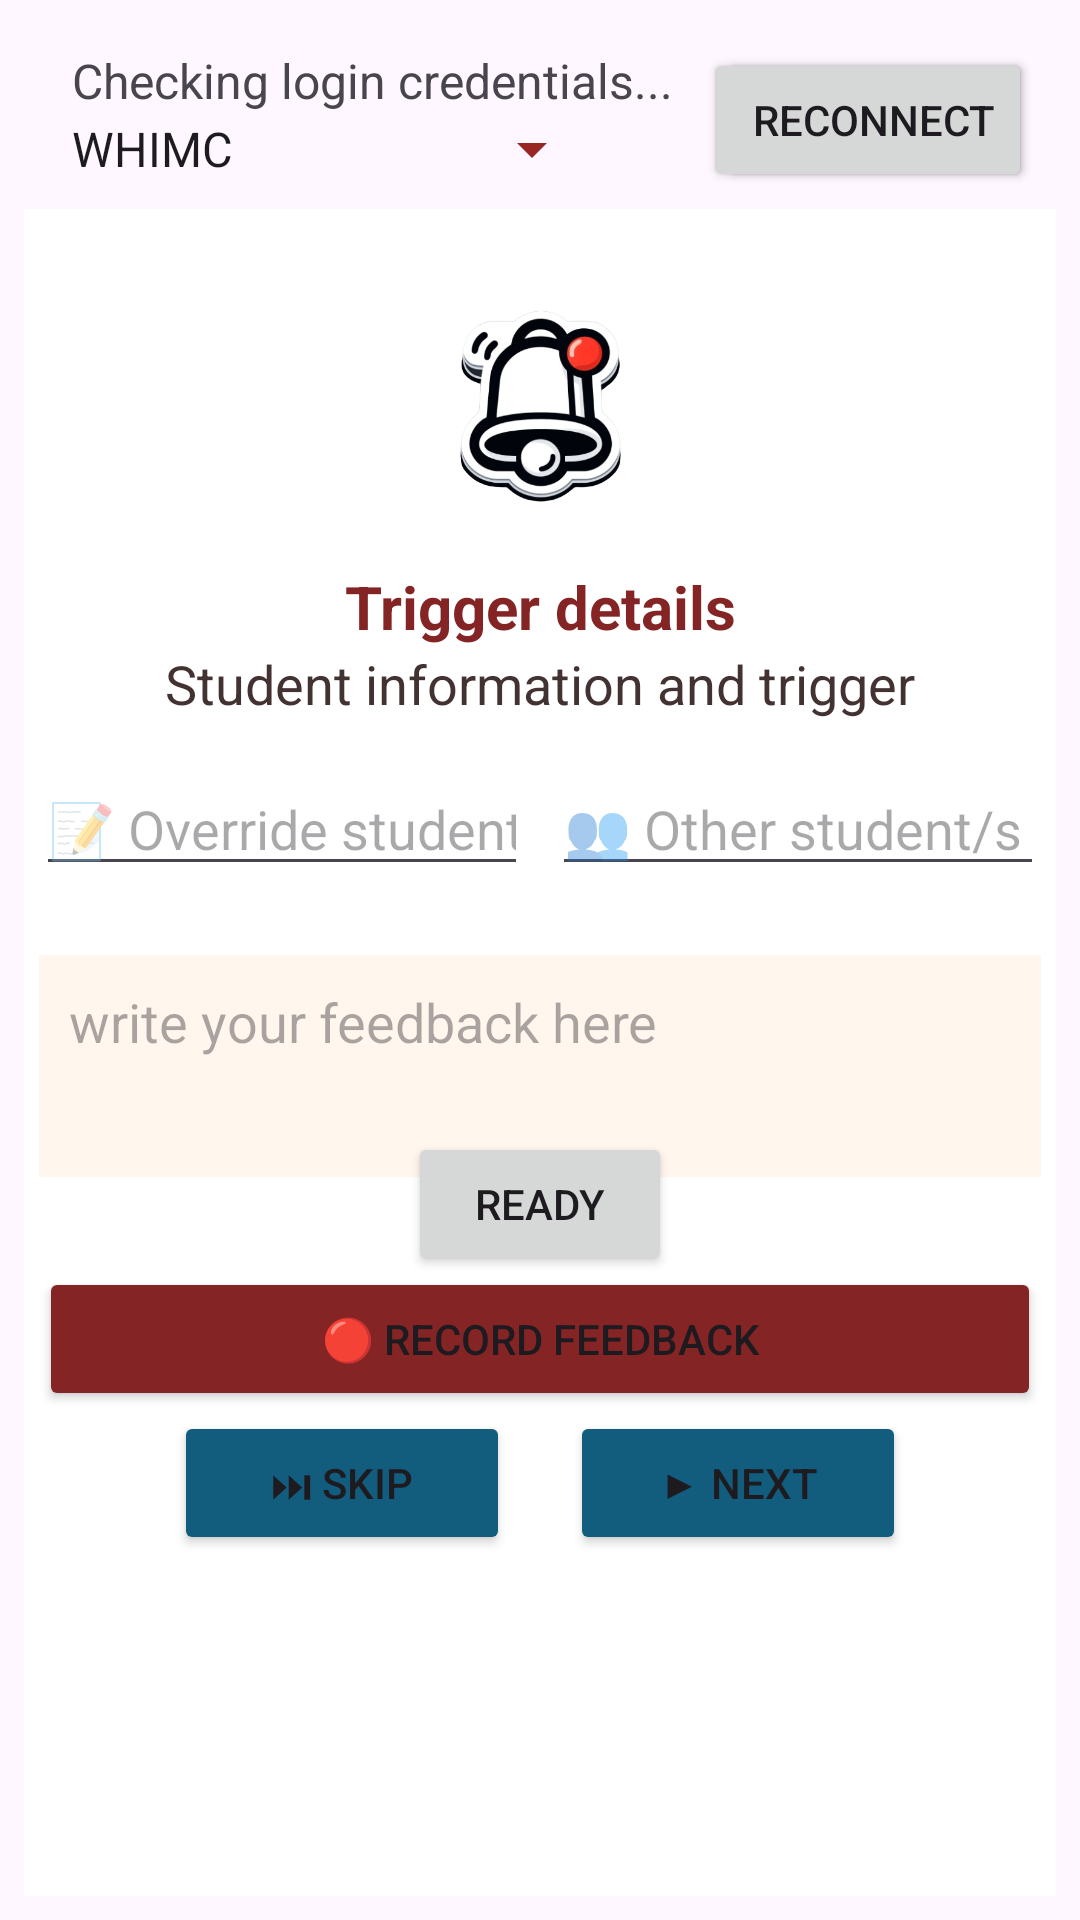

Named icons in this screenshot (1080x1920) and their bounding boxes, (x1, y1, x2, y2):
qrf notification: (460, 311, 621, 502)
